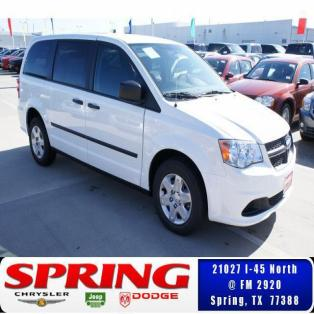Auto: (15, 30, 298, 239)
